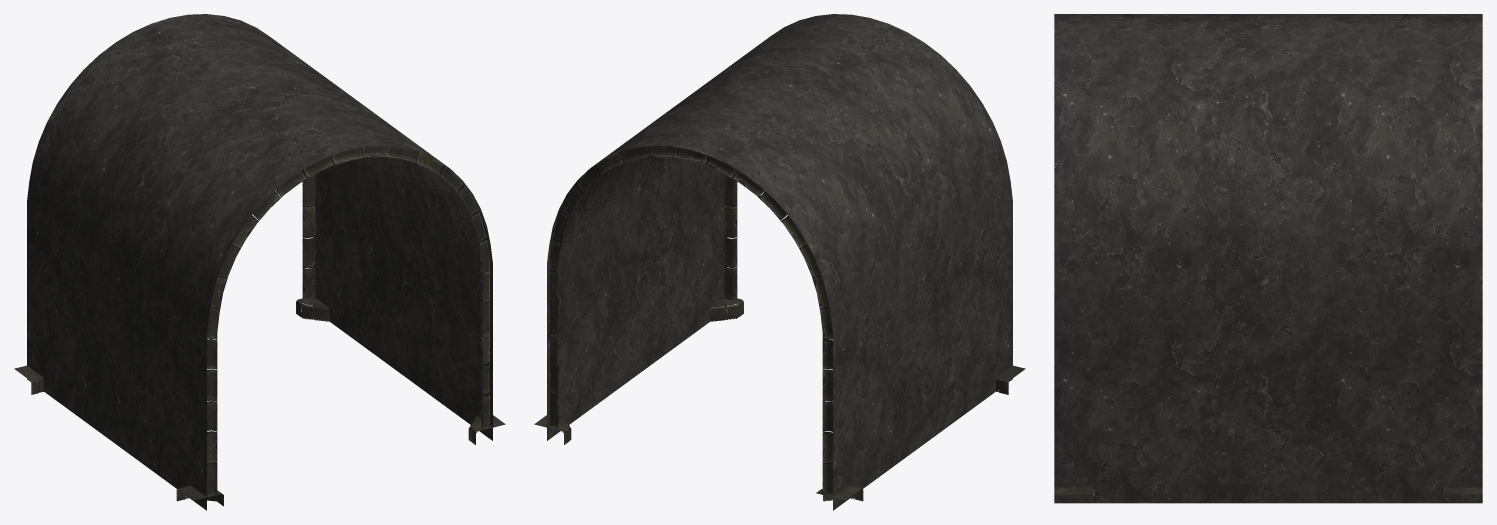
3 views of the same model, side by side, from view 1: azimuth 30°, elevation 25°; view 2: azimuth 150°, elevation 25°; view 3: azimuth 270°, elevation 25° (orthographic). The views are drawn at different scales.
Visible parts, largest first — view 1: SM_Dowdun_Vaulted_Tunnel_12x12_01_LOD0; view 2: SM_Dowdun_Vaulted_Tunnel_12x12_01_LOD0; view 3: SM_Dowdun_Vaulted_Tunnel_12x12_01_LOD0.
Part boxes in pixels (x1=…): SM_Dowdun_Vaulted_Tunnel_12x12_01_LOD0: x1=14, y1=14, x2=505, y2=510; SM_Dowdun_Vaulted_Tunnel_12x12_01_LOD0: x1=534, y1=14, x2=1025, y2=510; SM_Dowdun_Vaulted_Tunnel_12x12_01_LOD0: x1=1054, y1=14, x2=1482, y2=503.
Size of the model in its own units: 12 by 12 by 12.
2 materials, 2 textured.
